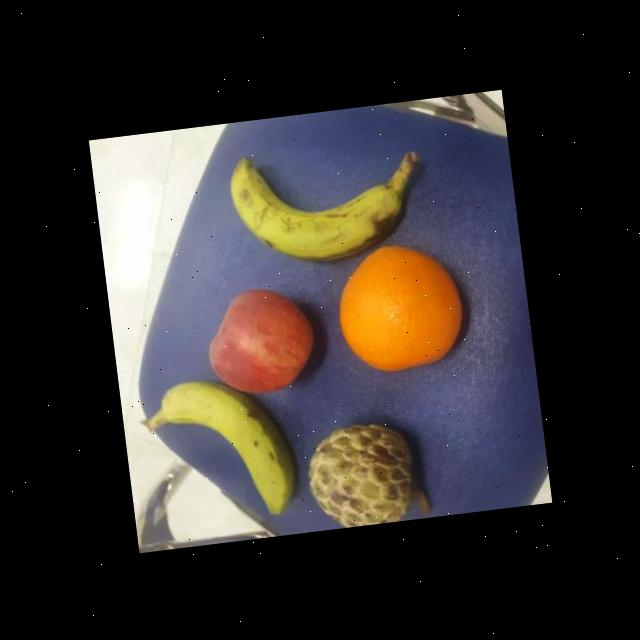Sakya fruit: (298, 412, 428, 531)
apple: (200, 278, 324, 400)
banana: (217, 134, 410, 270), (154, 362, 300, 532)
orange: (327, 231, 474, 377)
